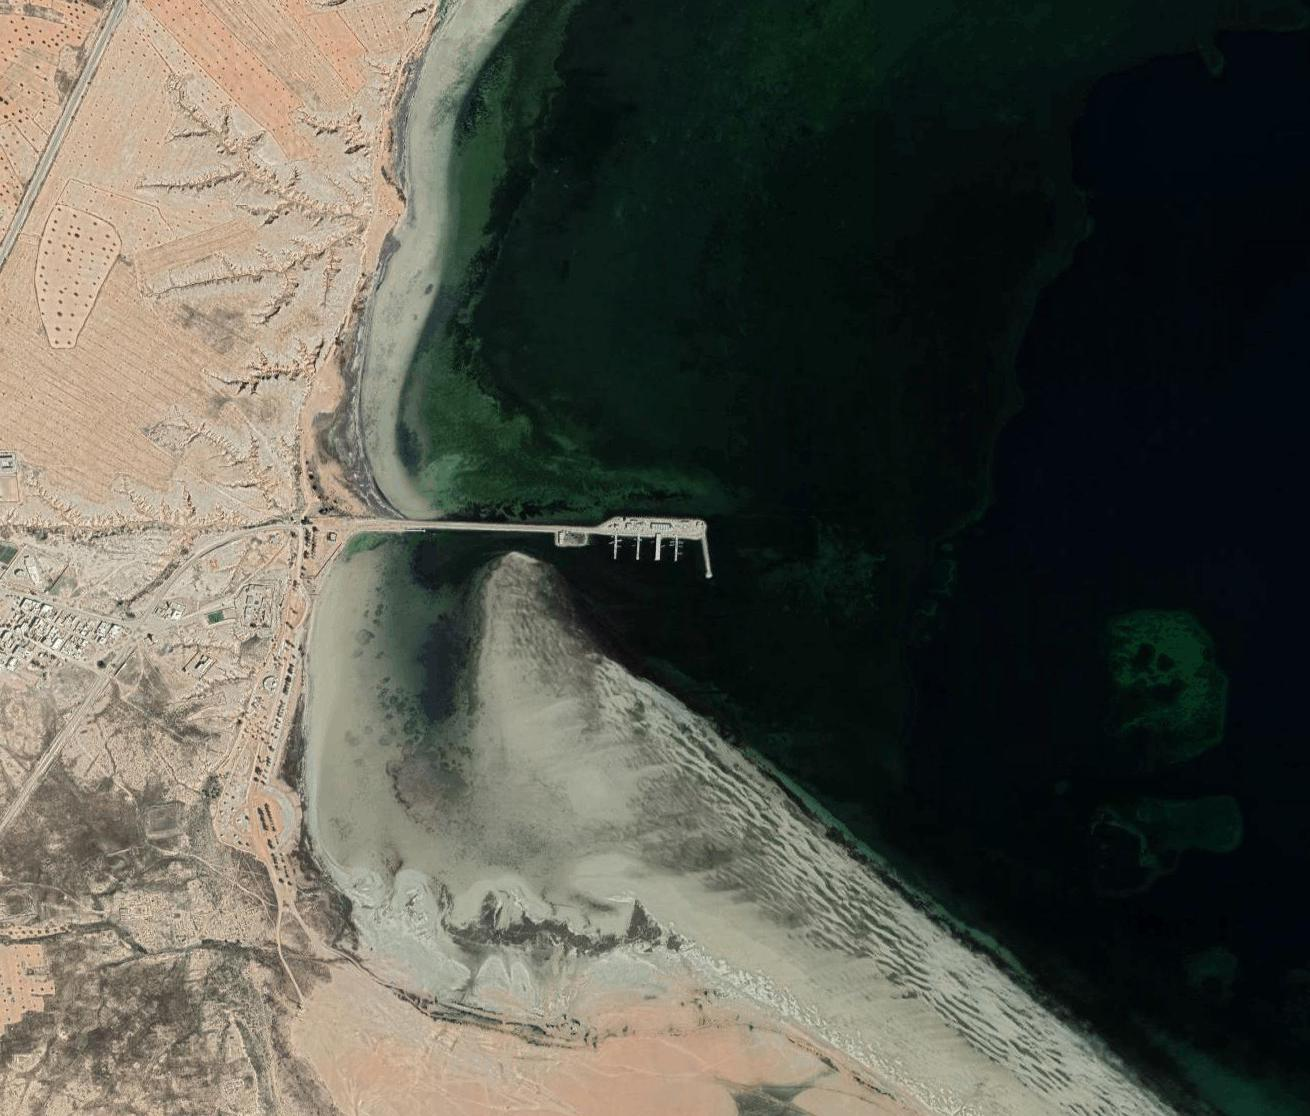harbor: (568, 503, 719, 583)
motorway: (2, 86, 82, 260), (79, 3, 120, 87)
